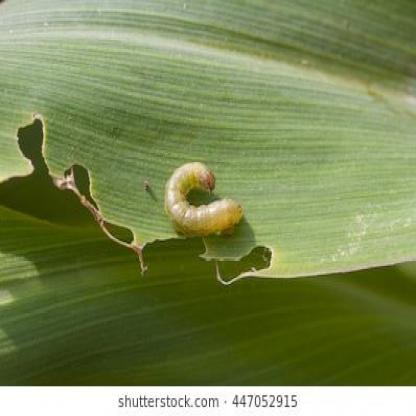armyworm: (162, 161, 248, 241)
